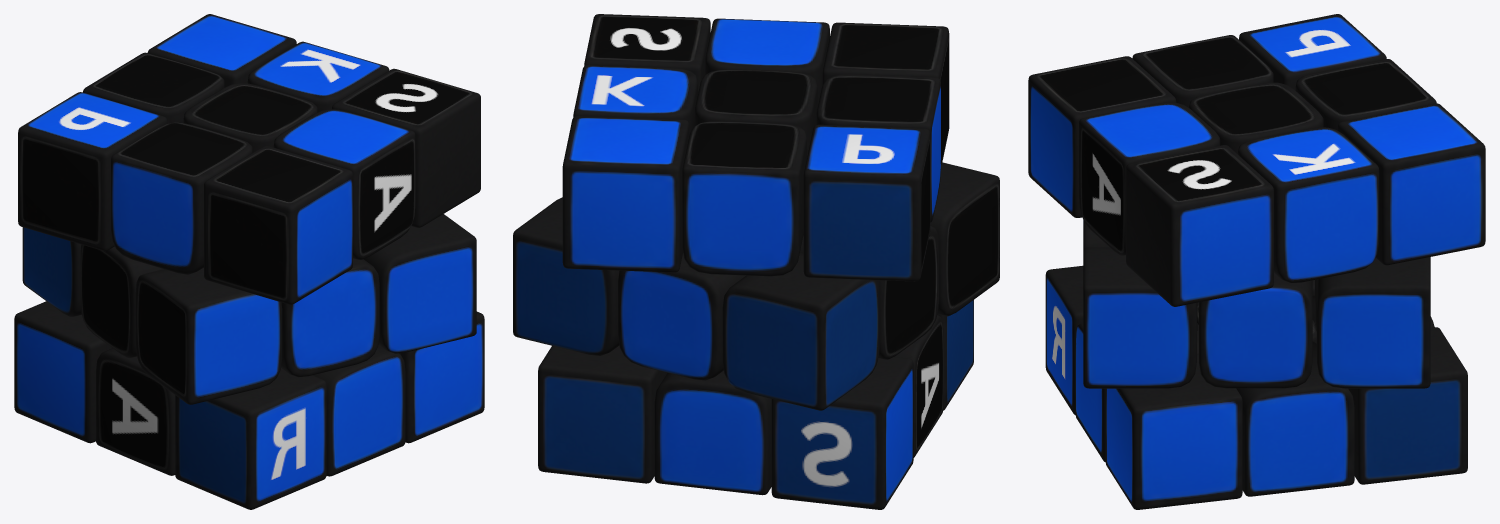
Rendered from rubic.glb.
3 views of the same model, side by side, from view 1: azimuth 30°, elevation 25°; view 2: azimuth 150°, elevation 25°; view 3: azimuth 270°, elevation 25° (orthographic). The views are drawn at different scales.
Visible parts, largest first — view 1: Cuadrado_low007, Cuadrado_low004, Esquina_low011, Cuadrado_low012, Esquina_low015, Esquina_low010, Cuadrado_low008, Esquina_low007, Cuadrado_low011, Redondo_low004, Esquina_low008, Esquina_low016 (+7 smaller); view 2: Cuadrado_low012, Esquina_low017, Cuadrado_low010, Esquina_low018, Cuadrado_low011, Cuadrado_low009, Esquina_low019, Esquina_low014, Redondo_low007, Esquina_low011, Esquina_low015, Cuadrado_low007 (+7 smaller); view 3: Cuadrado_low008, Cuadrado_low010, Cuadrado_low006, Esquina_low012, Esquina_low014, Esquina_low010, Esquina_low013, Cuadrado_low009, Redondo_low005, Cuadrado_low007, Esquina_low007, Cuadrado_low012 (+5 smaller).
Boxes of the visible parts, x1=… form: Cuadrado_low007: x1=204, y1=145, x2=352, y2=304; Cuadrado_low004: x1=175, y1=368, x2=326, y2=509; Esquina_low011: x1=135, y1=267, x2=282, y2=404; Cuadrado_low012: x1=18, y1=92, x2=167, y2=251; Esquina_low015: x1=111, y1=122, x2=252, y2=274; Esquina_low010: x1=363, y1=214, x2=476, y2=353; Cuadrado_low008: x1=332, y1=68, x2=480, y2=227; Esquina_low007: x1=273, y1=109, x2=415, y2=259; Cuadrado_low011: x1=14, y1=301, x2=111, y2=443; Redondo_low004: x1=281, y1=258, x2=379, y2=377; Esquina_low008: x1=313, y1=345, x2=405, y2=476; Esquina_low016: x1=96, y1=348, x2=175, y2=475; Cuadrado_low012: x1=803, y1=124, x2=930, y2=281; Esquina_low017: x1=722, y1=253, x2=879, y2=410; Cuadrado_low010: x1=562, y1=115, x2=689, y2=272; Esquina_low018: x1=682, y1=121, x2=806, y2=276; Cuadrado_low011: x1=771, y1=357, x2=913, y2=509; Cuadrado_low009: x1=538, y1=345, x2=667, y2=483; Esquina_low019: x1=654, y1=370, x2=771, y2=495; Esquina_low014: x1=513, y1=197, x2=619, y2=355; Redondo_low007: x1=618, y1=253, x2=745, y2=380; Esquina_low011: x1=930, y1=162, x2=999, y2=316; Esquina_low015: x1=816, y1=74, x2=940, y2=222; Cuadrado_low007: x1=822, y1=22, x2=949, y2=167; Cuadrado_low008: x1=1126, y1=145, x2=1273, y2=306; Cuadrado_low010: x1=1337, y1=103, x2=1485, y2=265; Cuadrado_low006: x1=1105, y1=353, x2=1242, y2=509; Esquina_low012: x1=1238, y1=127, x2=1379, y2=282; Esquina_low014: x1=1316, y1=257, x2=1430, y2=388; Esquina_low010: x1=1083, y1=247, x2=1197, y2=388; Esquina_low013: x1=1236, y1=341, x2=1354, y2=496; Cuadrado_low009: x1=1348, y1=327, x2=1467, y2=484; Redondo_low005: x1=1199, y1=273, x2=1312, y2=388; Cuadrado_low007: x1=1028, y1=56, x2=1176, y2=217; Esquina_low007: x1=1079, y1=102, x2=1220, y2=255; Cuadrado_low012: x1=1239, y1=14, x2=1386, y2=90.
Size of the model in its own units: 7.89 by 5.98 by 7.88.
Materials: 1 (1 with a texture image).
